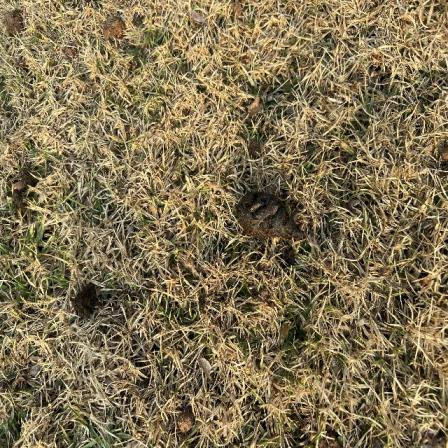dog-poop: (230, 185, 299, 248), (67, 276, 103, 318)
